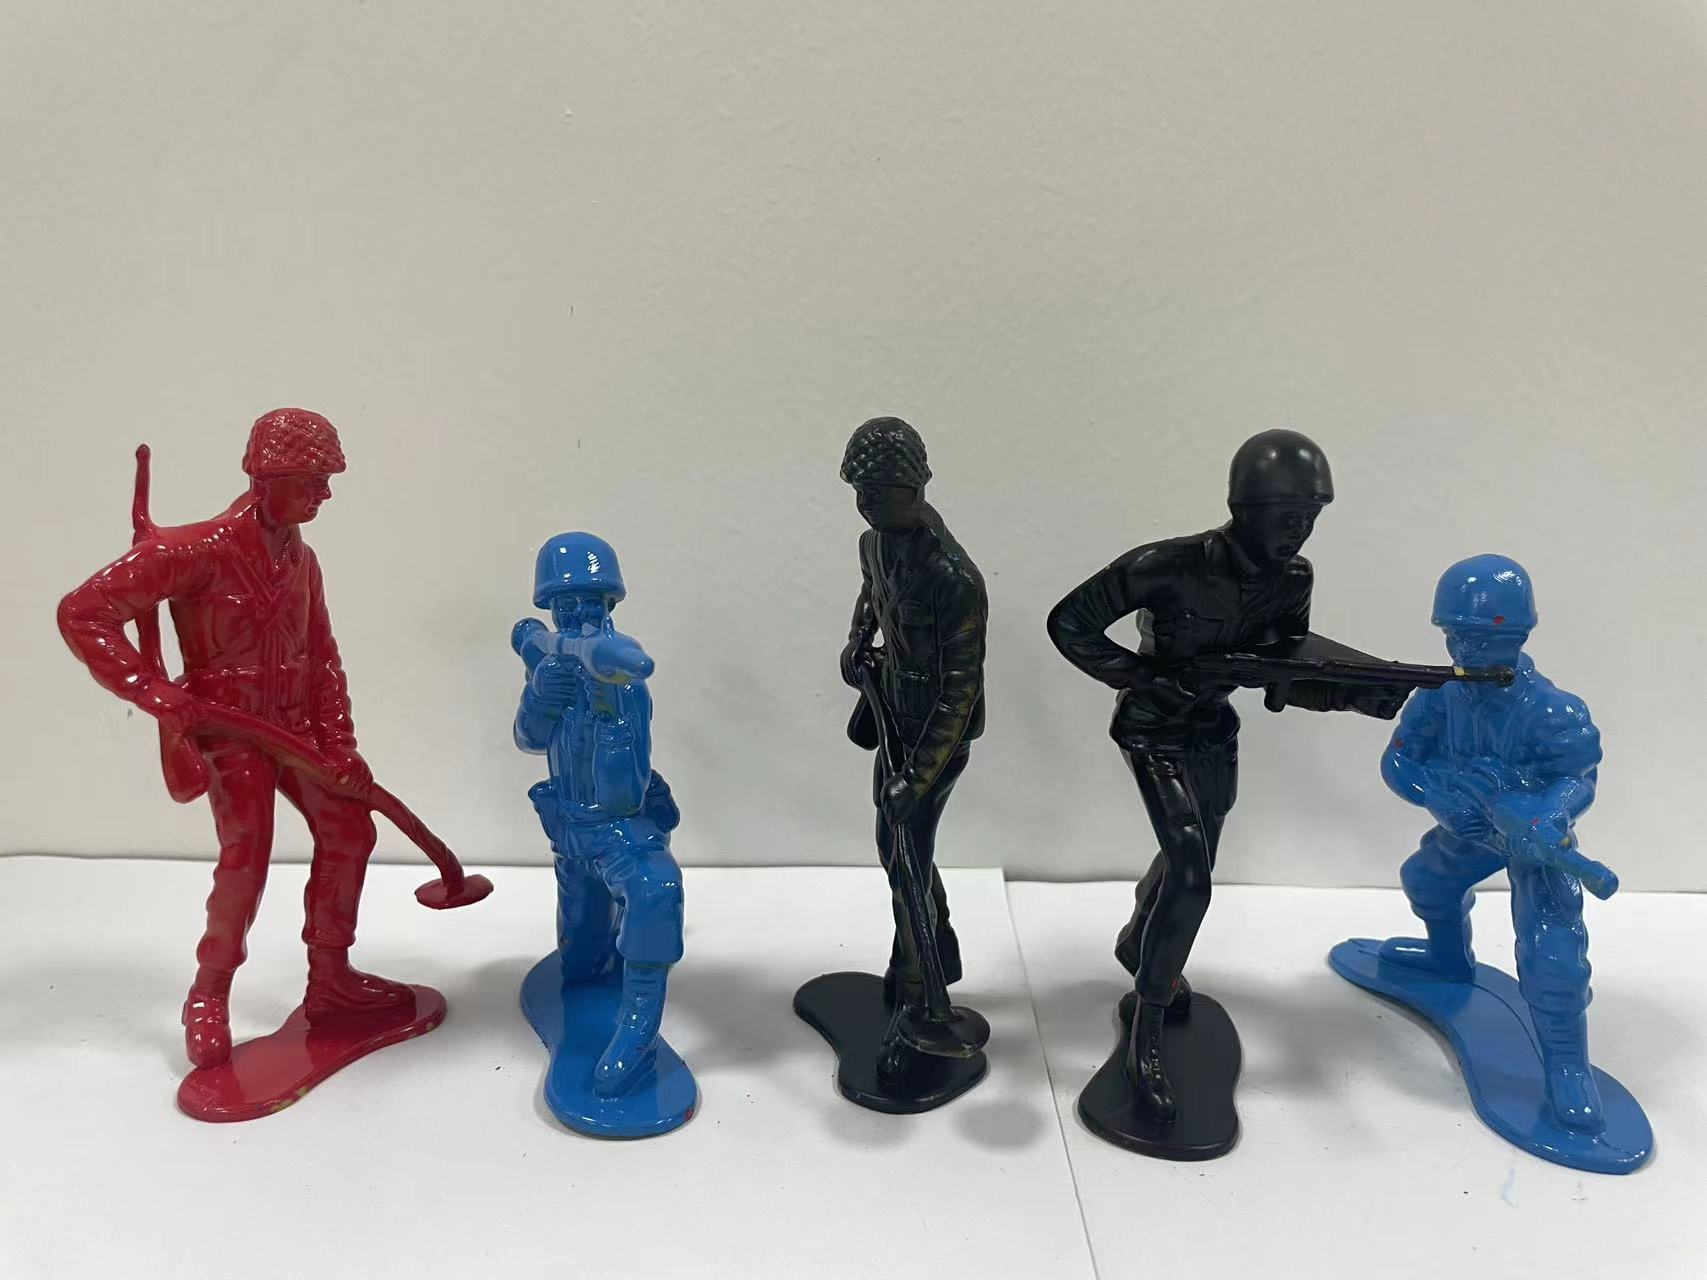black: (1030, 391, 1362, 1203), (745, 367, 1011, 1133)
blue: (1374, 528, 1707, 1206), (474, 493, 730, 1146)
red: (52, 370, 435, 1143)
